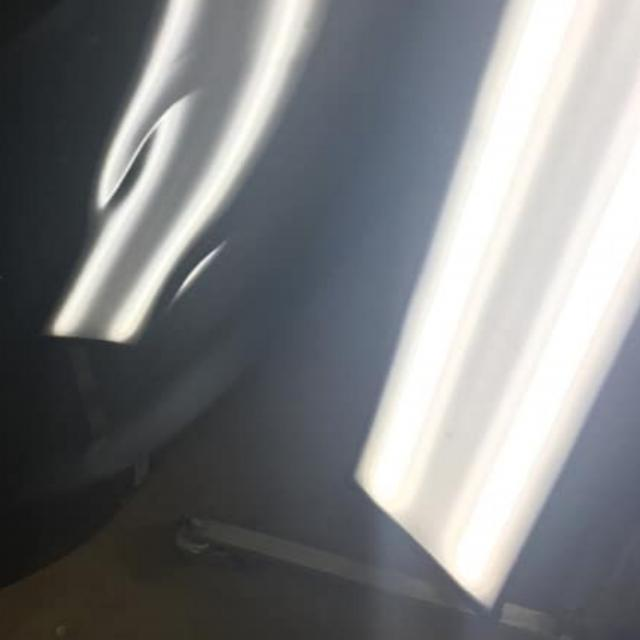dents: (90, 78, 254, 270)
